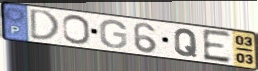6: (132, 21, 159, 55)
D: (29, 8, 61, 42)
E: (201, 28, 232, 65)
G: (98, 19, 128, 49)
O: (61, 14, 92, 46)
Q: (173, 27, 199, 58)
